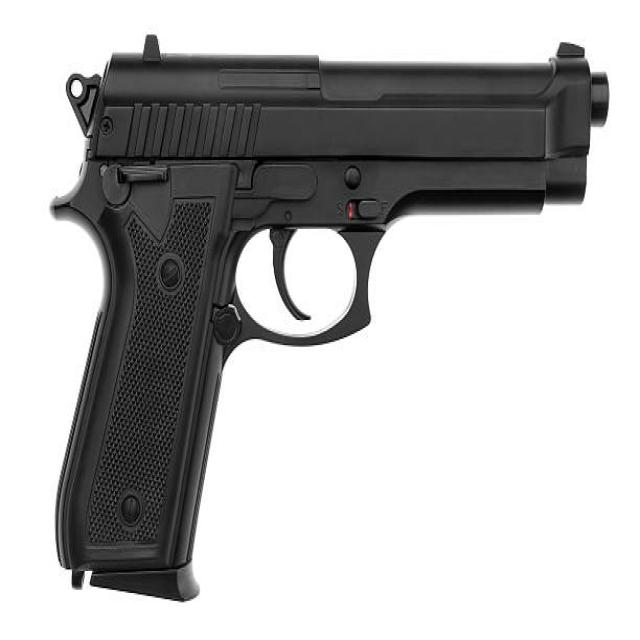pistol: (43, 26, 616, 606)
